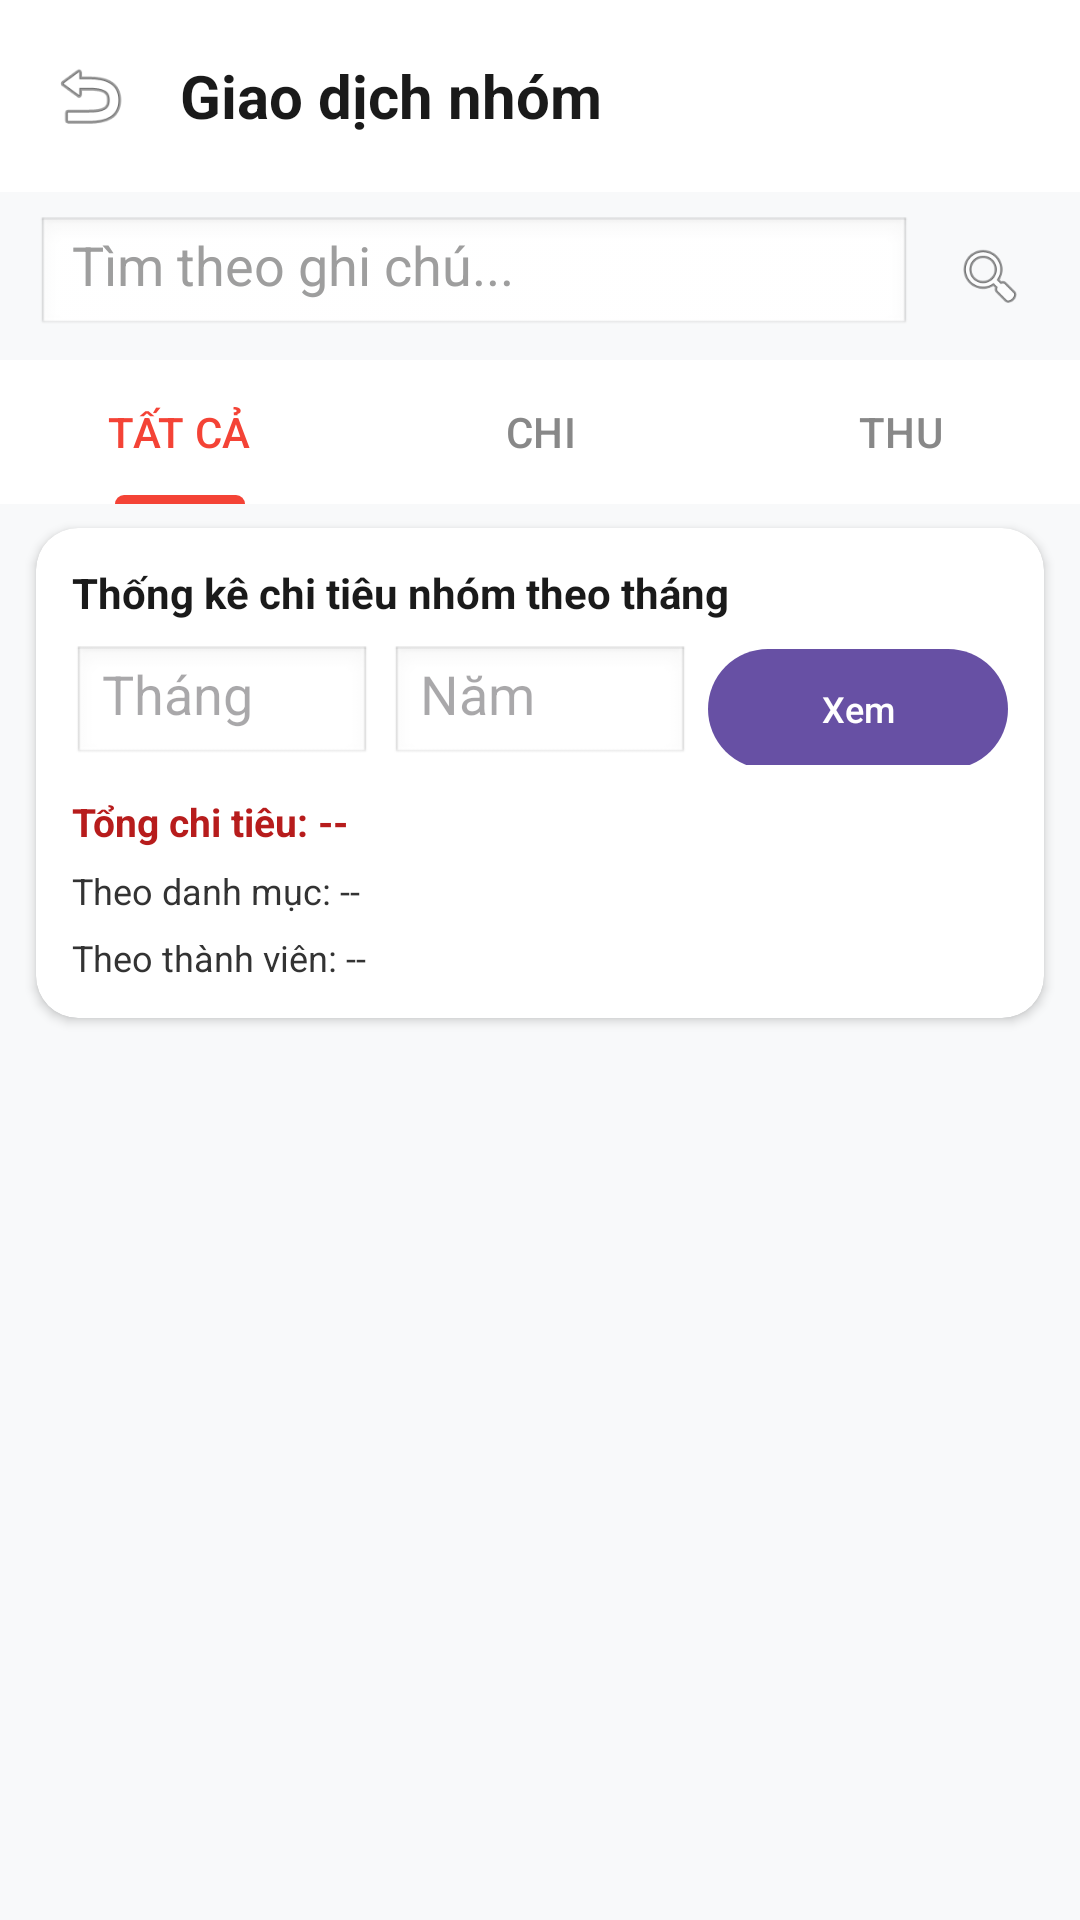

Icons on this 1080×1920 Android screen, each with its box as (x1=x1, y1=y1, x2=x2, y2=y2):
revert: (x1=61, y1=69, x2=122, y2=124)
Search group transaction: (x1=963, y1=250, x2=1017, y2=303)
